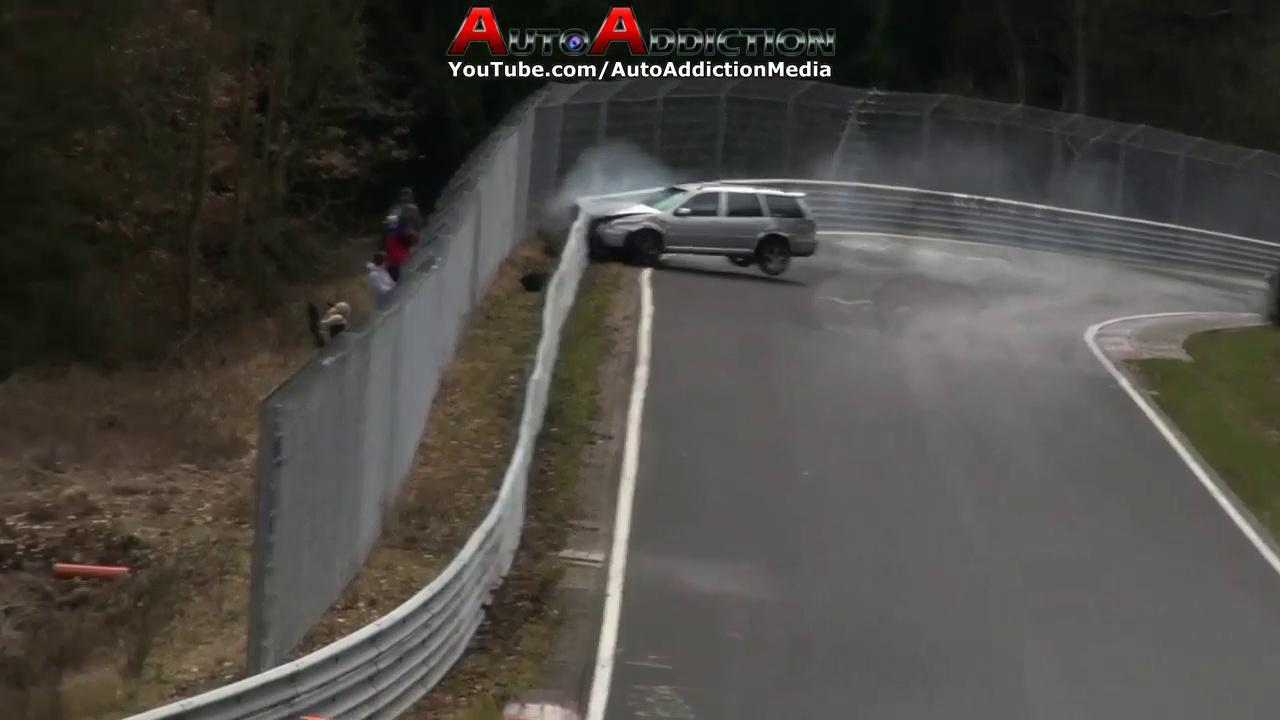car-accident: (543, 130, 829, 279)
